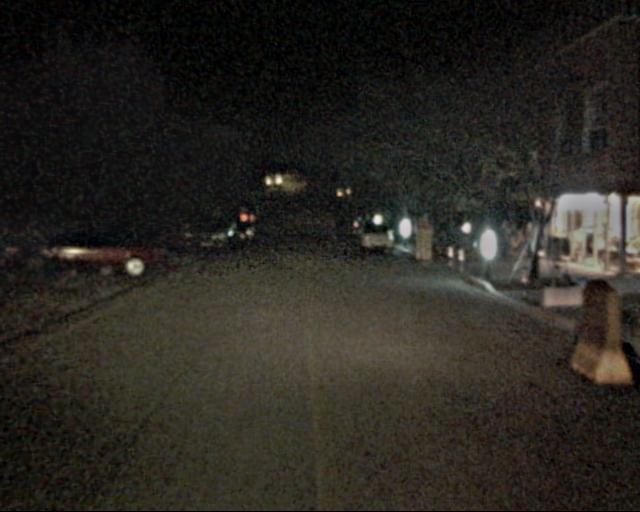person: (493, 220, 514, 272), (517, 219, 538, 271)
